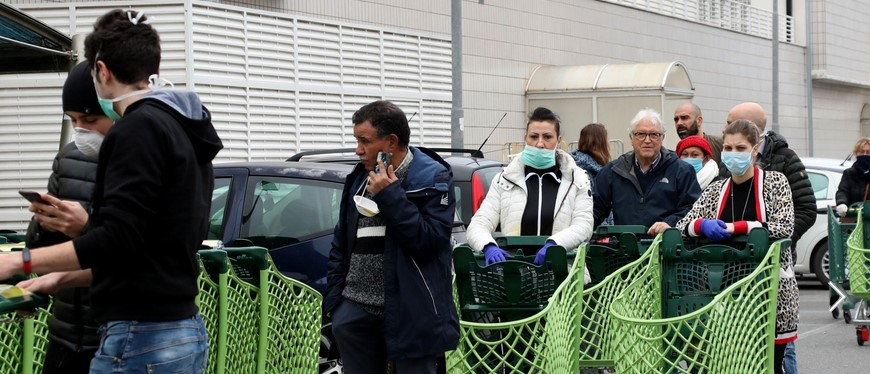face_no_mask: (352, 101, 409, 173), (626, 106, 668, 164), (670, 100, 704, 138)
face_with_mask: (88, 12, 160, 114), (62, 64, 107, 163), (518, 106, 563, 174), (717, 118, 762, 180), (674, 134, 714, 174)
